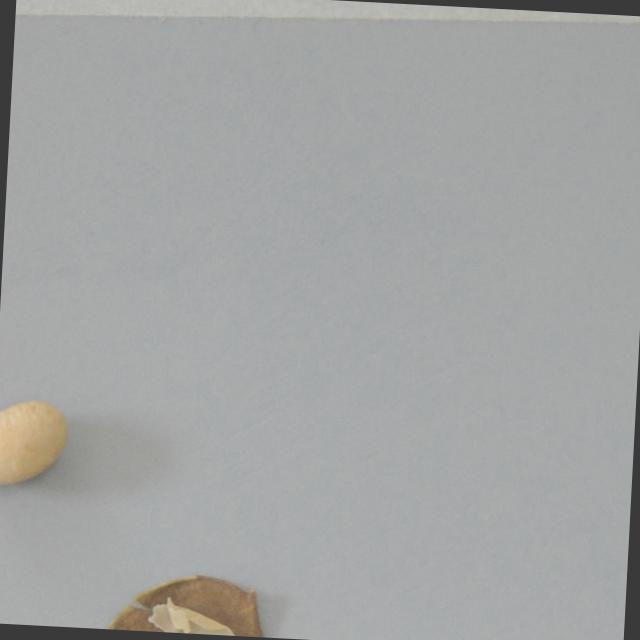cuerpos_extranos: (107, 568, 272, 638), (0, 388, 73, 496), (148, 587, 251, 637)
